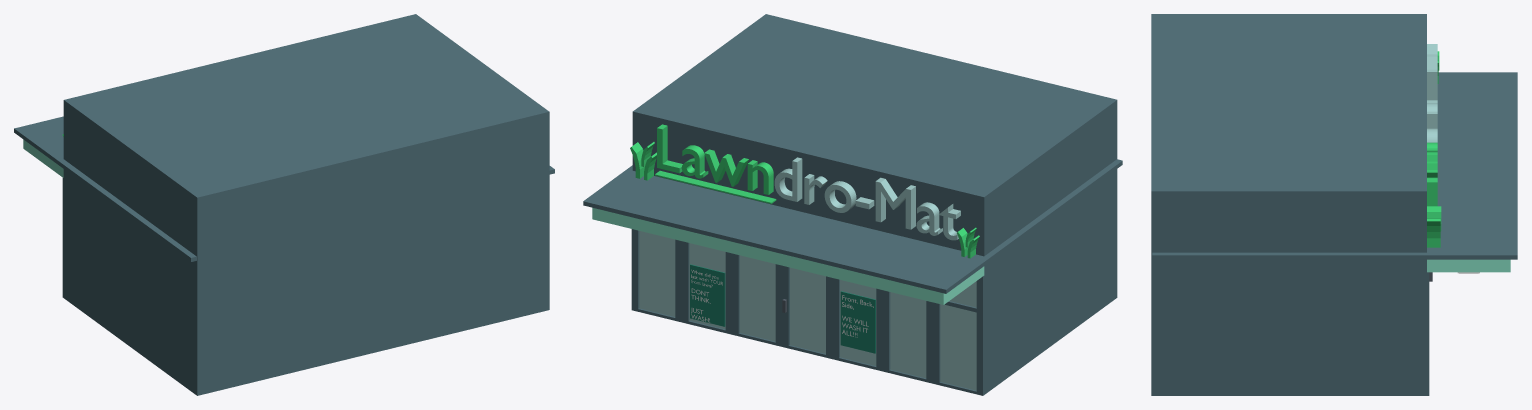
The model's file is LawnDromat.fbx.
The picture shows the model from 3 angles, left to right: view 1: azimuth 30°, elevation 25°; view 2: azimuth 150°, elevation 25°; view 3: azimuth 270°, elevation 25°; orthographic projection. The views are drawn at different scales.
Parts seen in each view (by area): view 1: build; view 2: build; view 3: build.
Boxes of the visible parts, box(x1,y1,x2,y2) form: build: box(14, 14, 554, 395); build: box(583, 14, 1122, 395); build: box(1151, 14, 1517, 395).
Bounding box in the file's own units: 2657 × 3146 × 1639.
